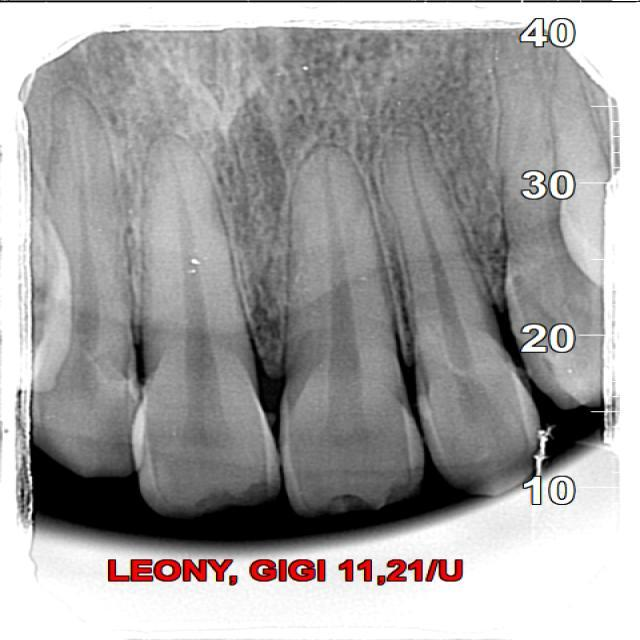individual-tooth-8tto: (382, 119, 546, 498), (277, 136, 428, 518), (126, 149, 275, 505)
